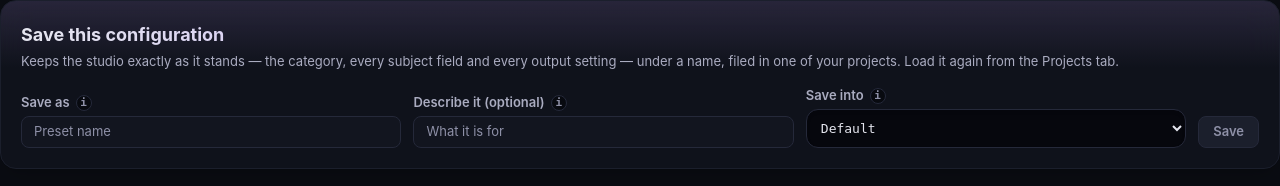
PresetSavePanel › adopts it again after the box was typed in and then cleared
The width and height of the screenshot is (1280, 186).
Type "Town" into the field labelled "Describe it (optional)".
click(604, 132); type("Town")  # box [413,116,794,148]
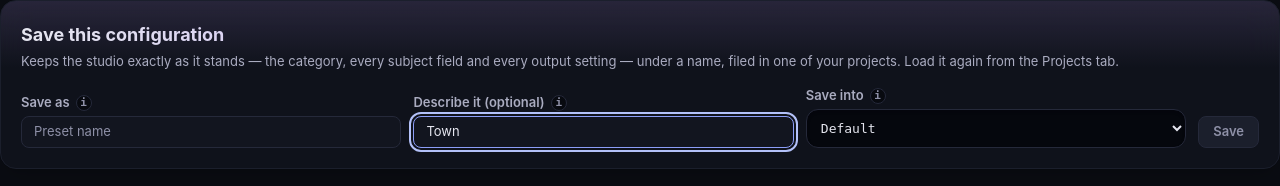
Clear the field labelled "Describe it (optional)" at (604, 132), box [413,116,794,148]
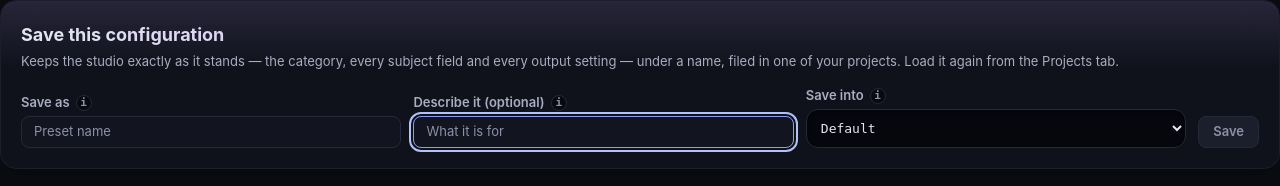
Type "My Knight" into the field labelled "Save as".
click(211, 132); type("My Knight")  # box [21,116,401,148]
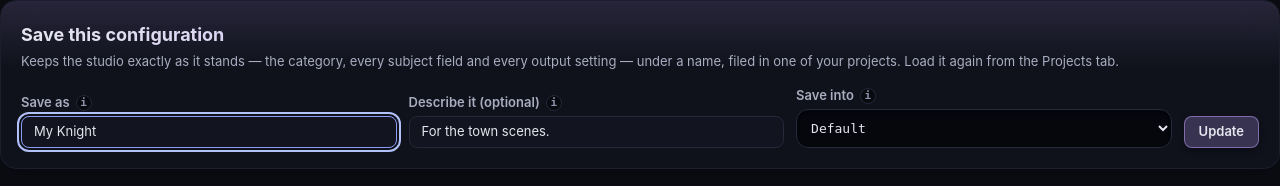
Expected: the button "Update" is shown, [1184,116,1259,148]
Expected: the field labelled "Describe it (optional)" holds "For the town scenes.", [408,116,784,148]
